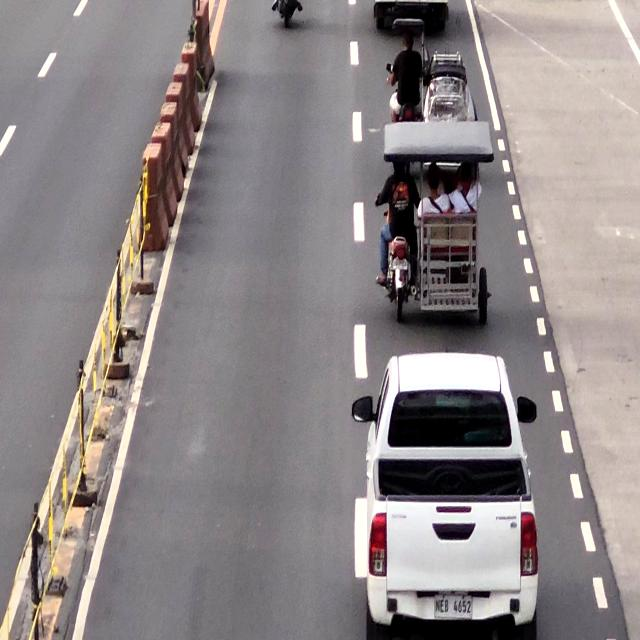Car: (368, 356, 534, 640)
License-Plate: (434, 593, 474, 625)
Tricycle: (383, 120, 488, 317), (393, 20, 475, 121)
